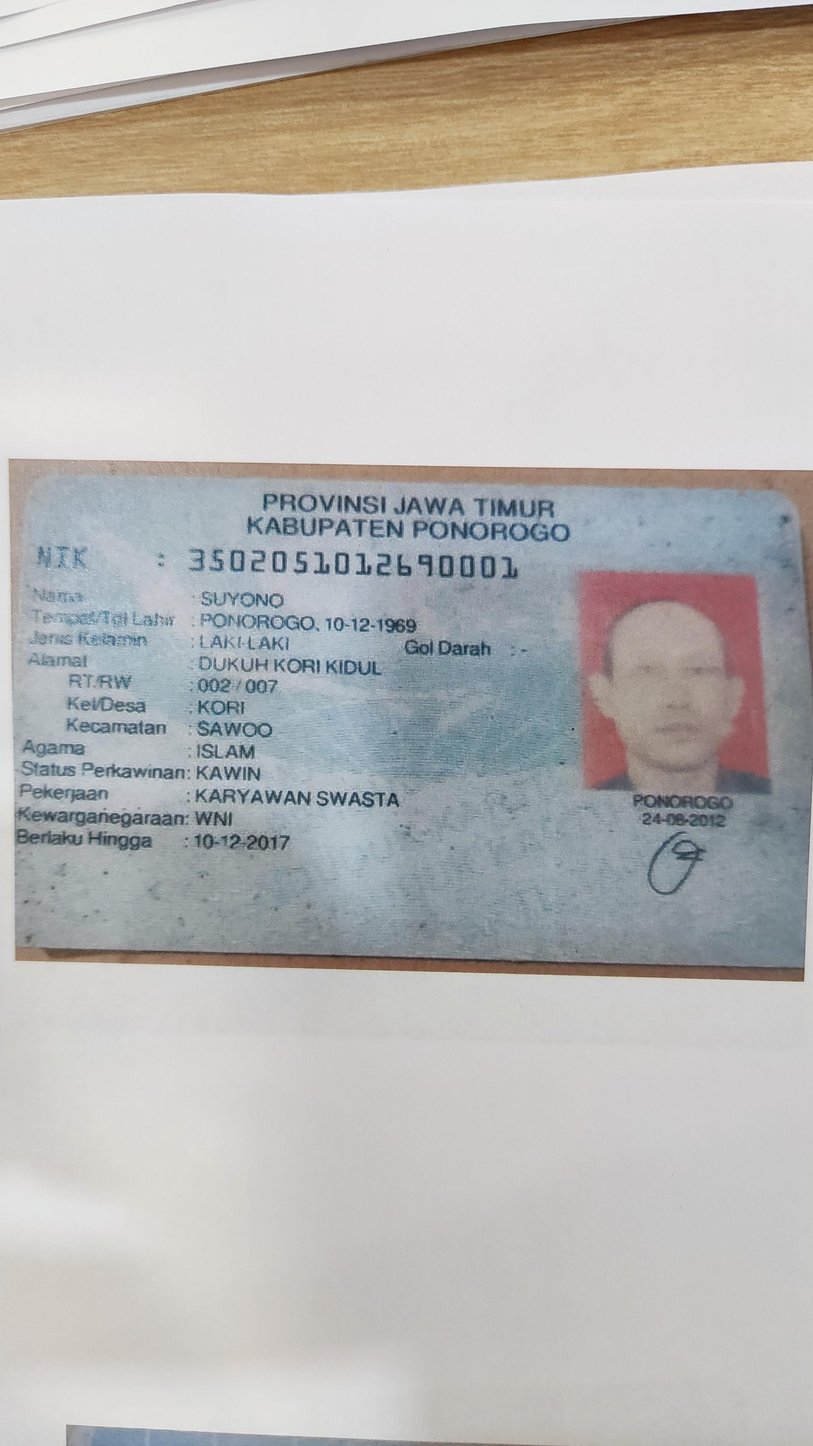ID-card: (19, 484, 804, 959)
